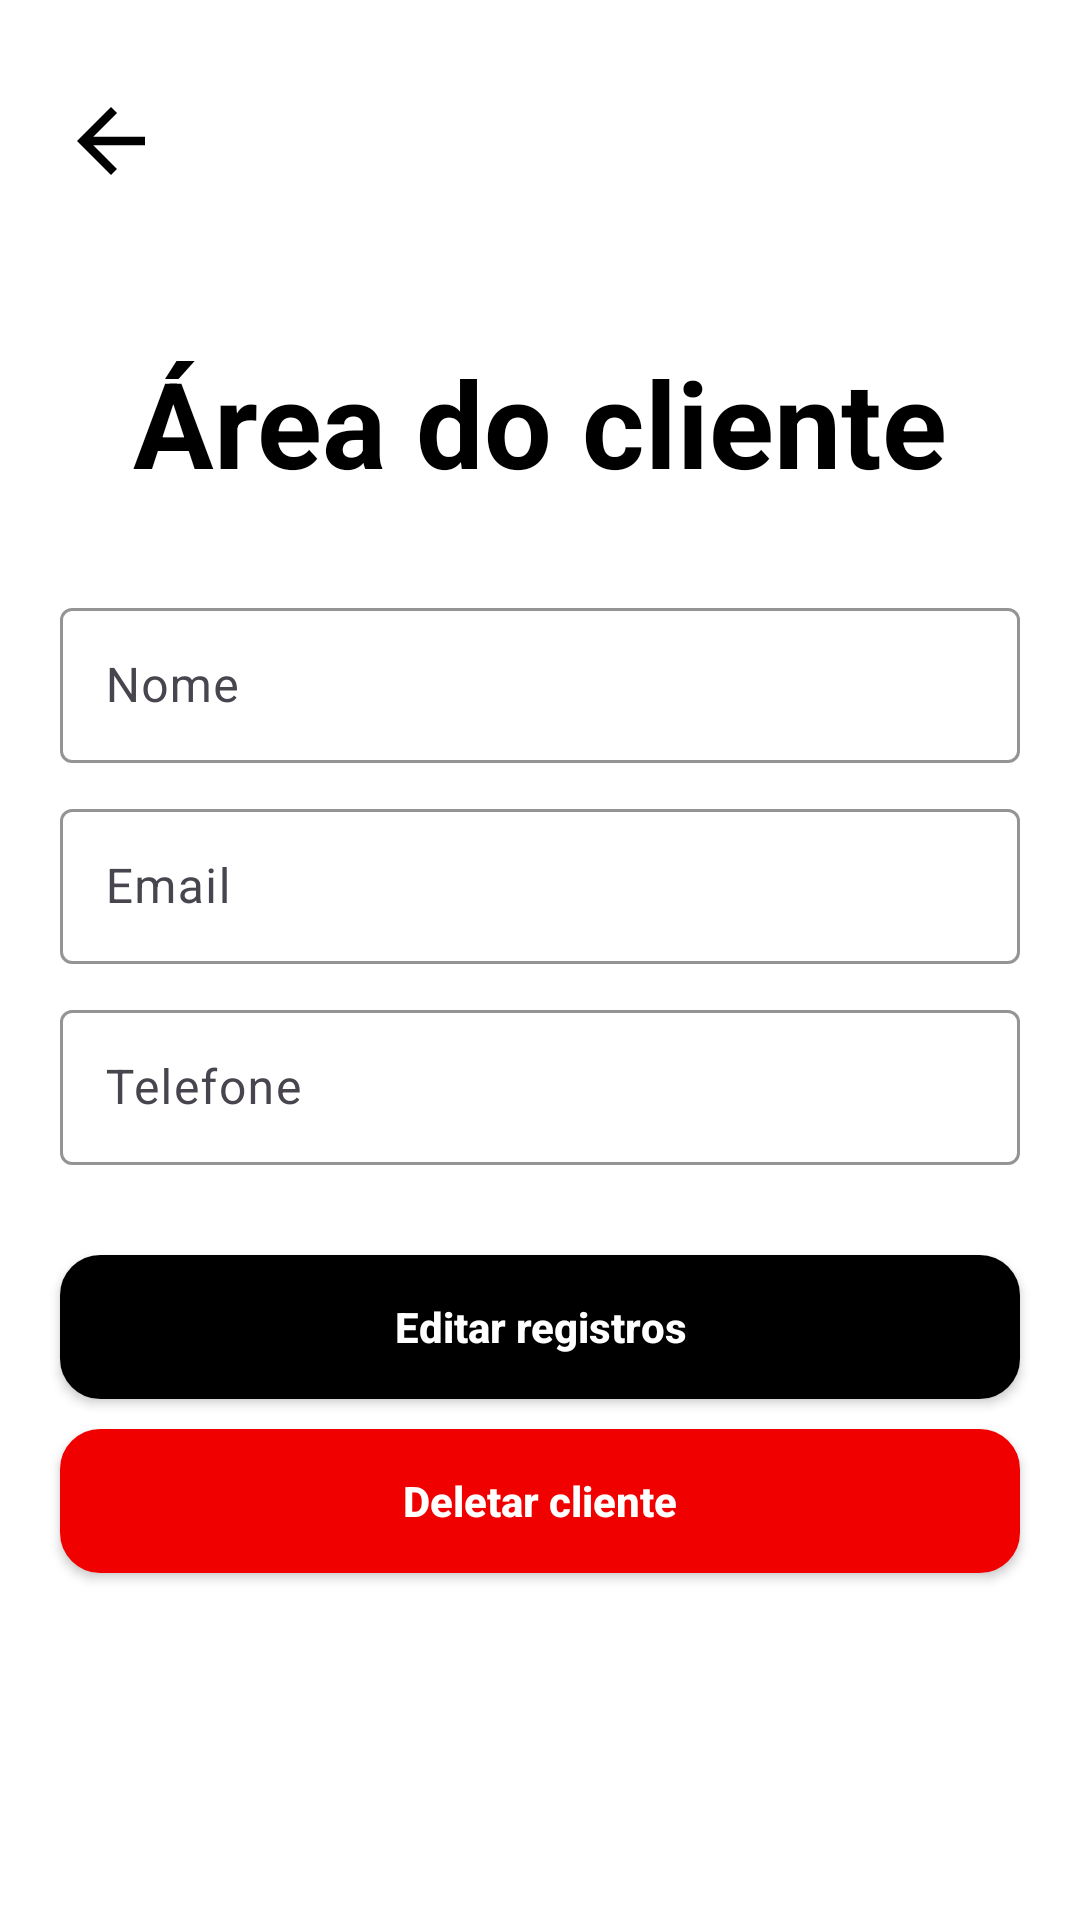

Where to tap for icons on this 1080 × 1920 app screen, as point (x, y):
voltar nav: point (111, 141)
